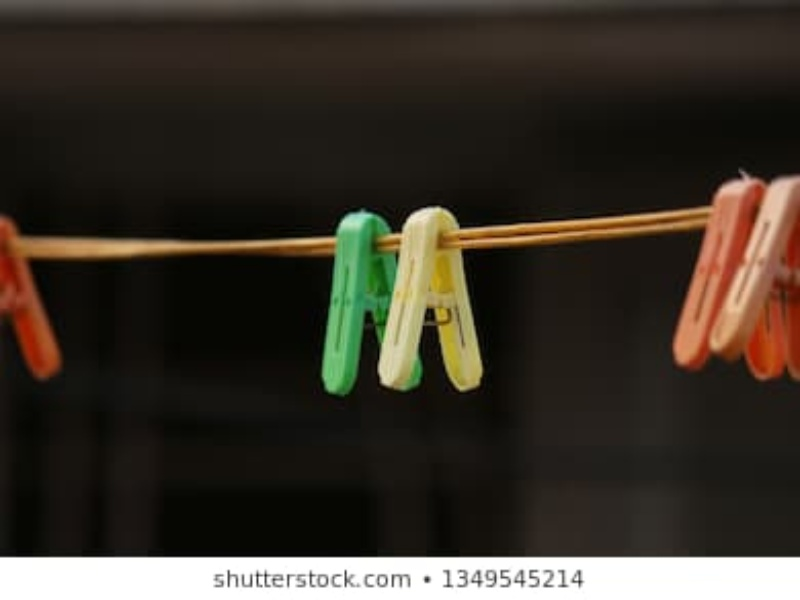plastic-peg: (674, 175, 784, 381), (378, 204, 489, 394), (318, 207, 422, 397), (708, 172, 800, 384)
